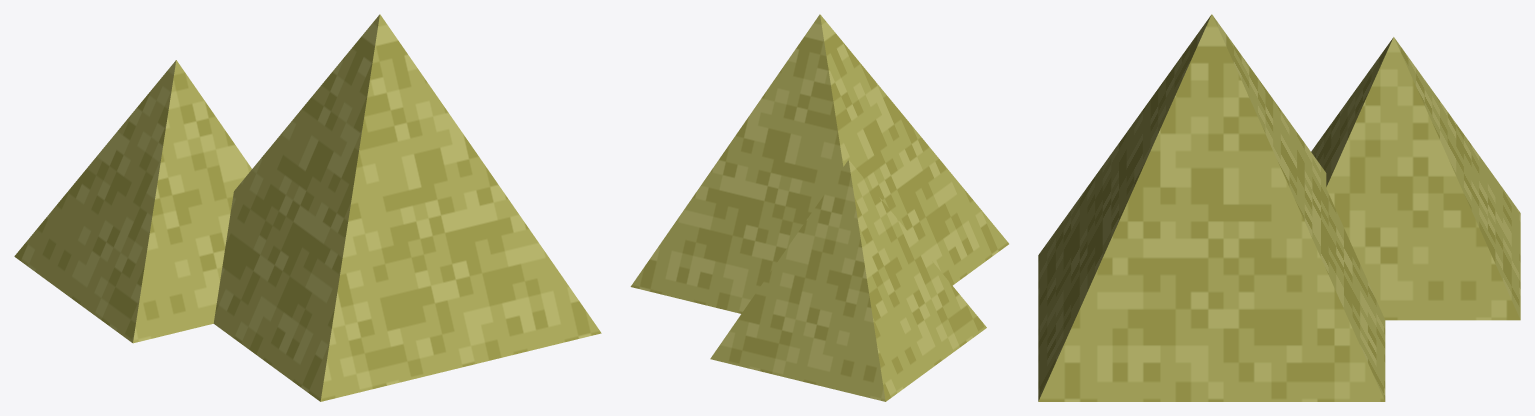
The model's file is ArbustoEgiptoModeloB.fbx.
3 views of the same model, side by side, from view 1: azimuth 30°, elevation 25°; view 2: azimuth 150°, elevation 25°; view 3: azimuth 270°, elevation 25° (orthographic). The views are drawn at different scales.
Visible parts, largest first — view 1: ArbustoEgipcioB; view 2: ArbustoEgipcioB; view 3: ArbustoEgipcioB.
Boxes of the visible parts, box(x1,y1,x2,y2) form: ArbustoEgipcioB: box(14, 14, 601, 401); ArbustoEgipcioB: box(630, 14, 1008, 401); ArbustoEgipcioB: box(1038, 14, 1520, 401).
Size of the model in its own units: 5.09 by 3.96 by 5.5.
